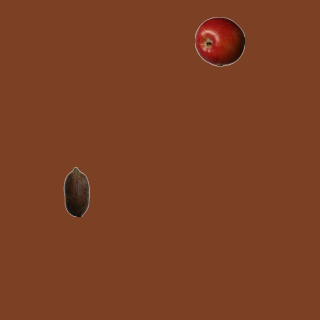Apple Braeburn: (194, 16, 244, 66)
Nut Pecan: (51, 166, 101, 216)
